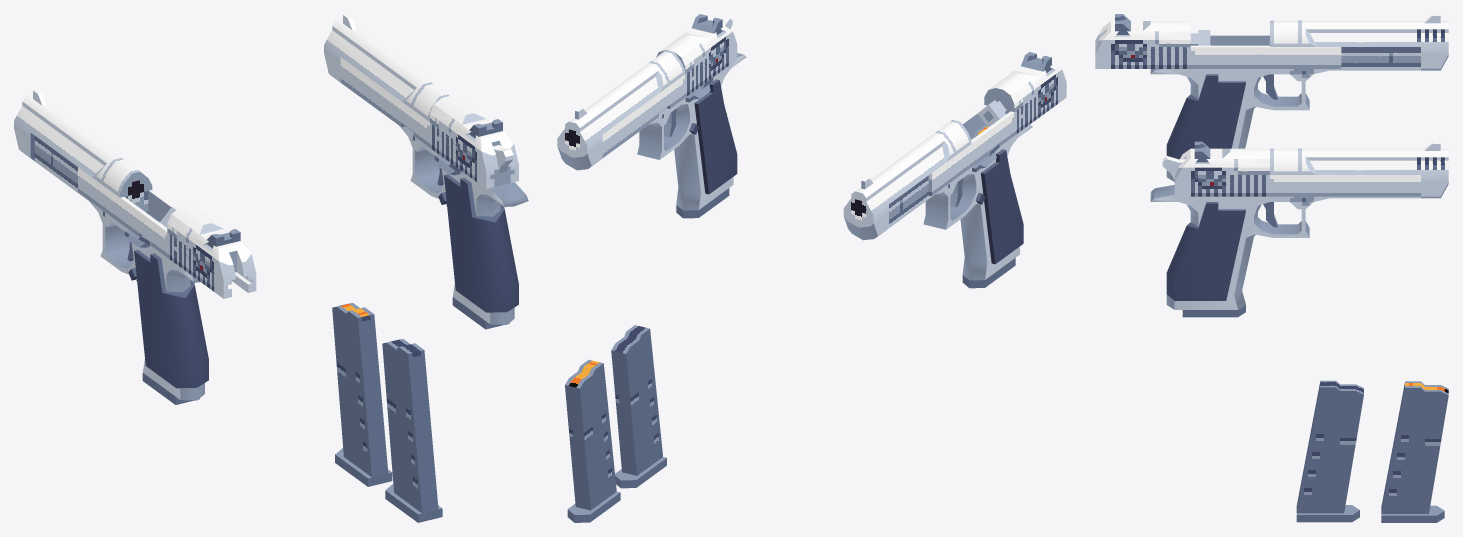
The picture shows the model from 3 angles, left to right: view 1: azimuth 30°, elevation 25°; view 2: azimuth 150°, elevation 25°; view 3: azimuth 270°, elevation 25°; orthographic projection. The views are drawn at different scales.
Visible parts, largest first — view 1: frame.001, frame, slide.001, mag_empty, mag_full, slide; view 2: frame.001, frame, slide.001, mag_full, mag_empty, slide; view 3: frame, frame.001, slide.001, slide, mag_empty, mag_full, mag.
Part boxes in pixels (left/top/right/bottom): frame.001: left=14, top=89, right=208, bottom=400; frame: left=324, top=14, right=528, bottom=324; slide.001: left=78, top=167, right=256, bottom=298; mag_empty: left=382, top=339, right=442, bottom=522; mag_full: left=332, top=303, right=392, bottom=486; slide: left=340, top=57, right=518, bottom=188; frame.001: left=843, top=120, right=1032, bottom=280; frame: left=557, top=50, right=746, bottom=210; slide.001: left=928, top=52, right=1066, bottom=195; mag_full: left=565, top=359, right=620, bottom=522; mag_empty: left=611, top=325, right=666, bottom=488; slide: left=602, top=14, right=737, bottom=157; frame: left=1150, top=142, right=1448, bottom=309; frame.001: left=1150, top=14, right=1448, bottom=181; slide.001: left=1095, top=14, right=1341, bottom=68; slide: left=1174, top=141, right=1420, bottom=196; mag_empty: left=1296, top=380, right=1363, bottom=522; mag_full: left=1381, top=381, right=1448, bottom=522; mag: left=1182, top=305, right=1245, bottom=317.
Size of the model in its own units: 5.32 by 6.51 by 5.56.
Materials: 1 (1 with a texture image).
